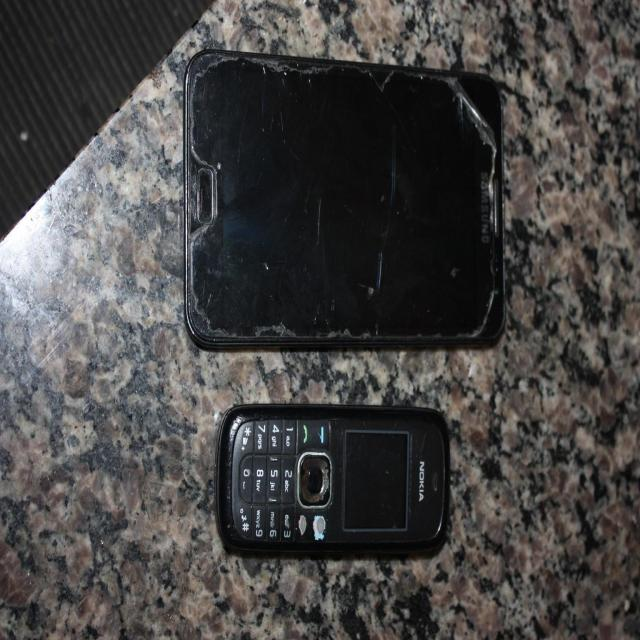Phone: (182, 52, 503, 349), (216, 403, 451, 558)
